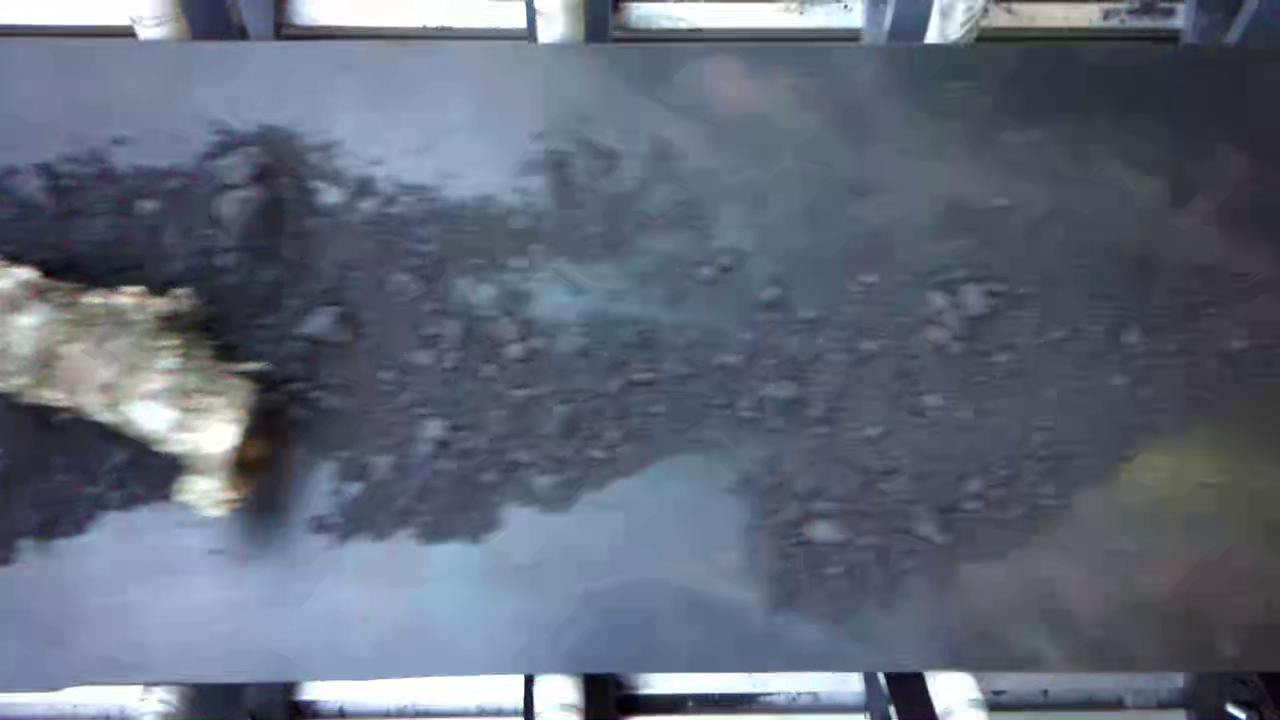conveyor: (3, 50, 1280, 671)
